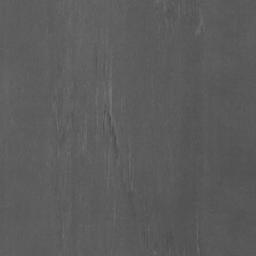Silk spot: (45, 44, 141, 216), (48, 190, 105, 247), (142, 216, 202, 256), (152, 0, 209, 40), (51, 39, 65, 78)
